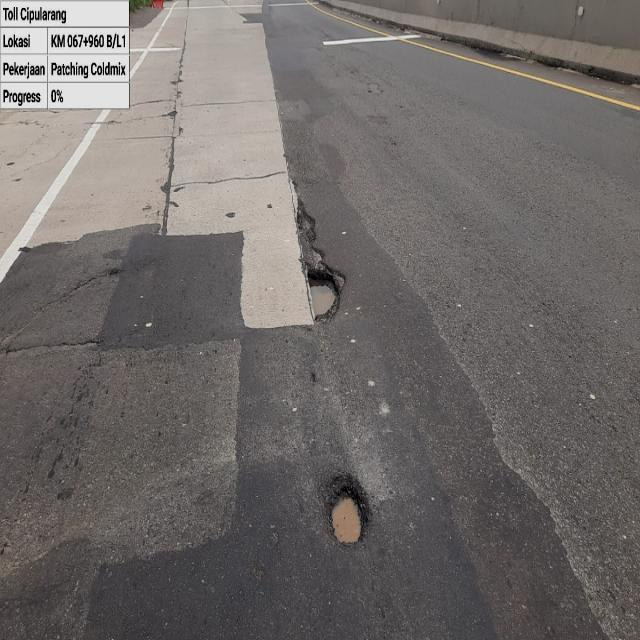Buraco: (294, 197, 349, 328), (319, 471, 375, 548)
